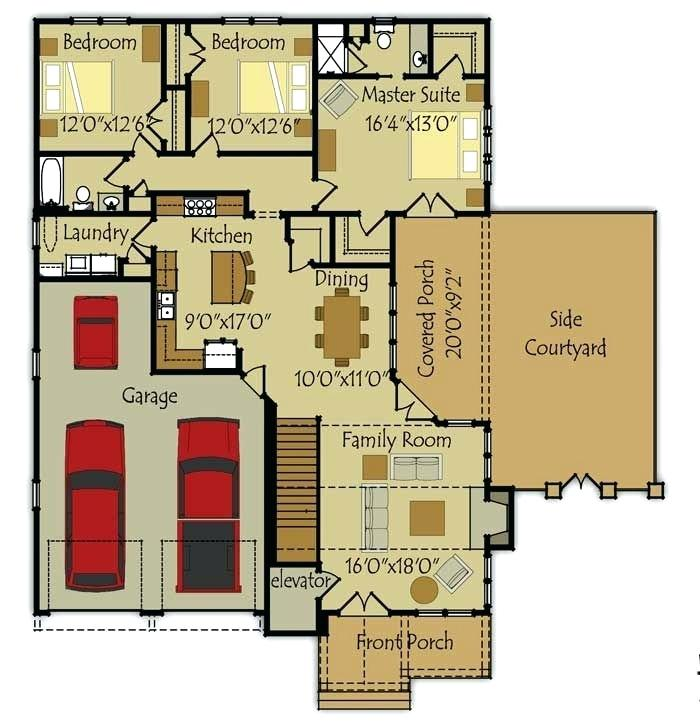room: (314, 417, 491, 614), (312, 72, 492, 217), (162, 17, 317, 155), (33, 18, 167, 155)
